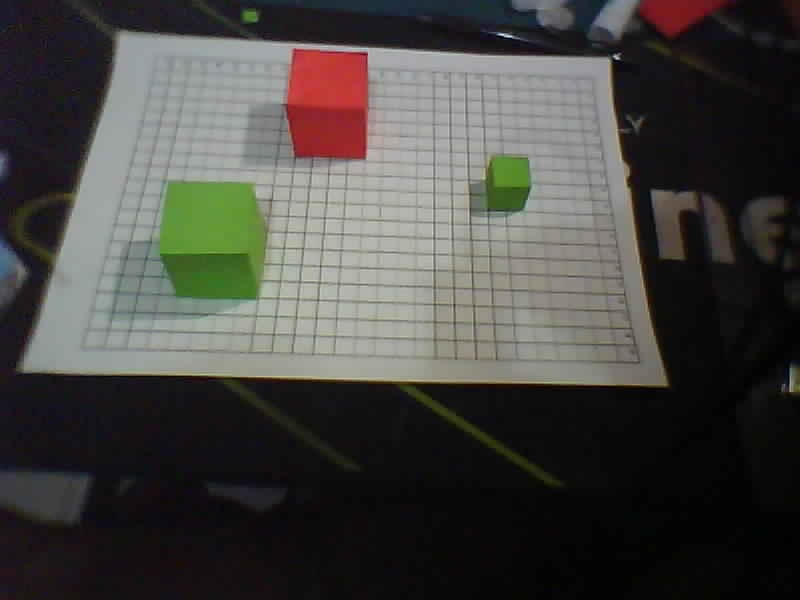green(2x2x2): (277, 43, 383, 169)
green(3x3x3): (480, 151, 536, 212)
green(4x4x4): (154, 176, 272, 308)
